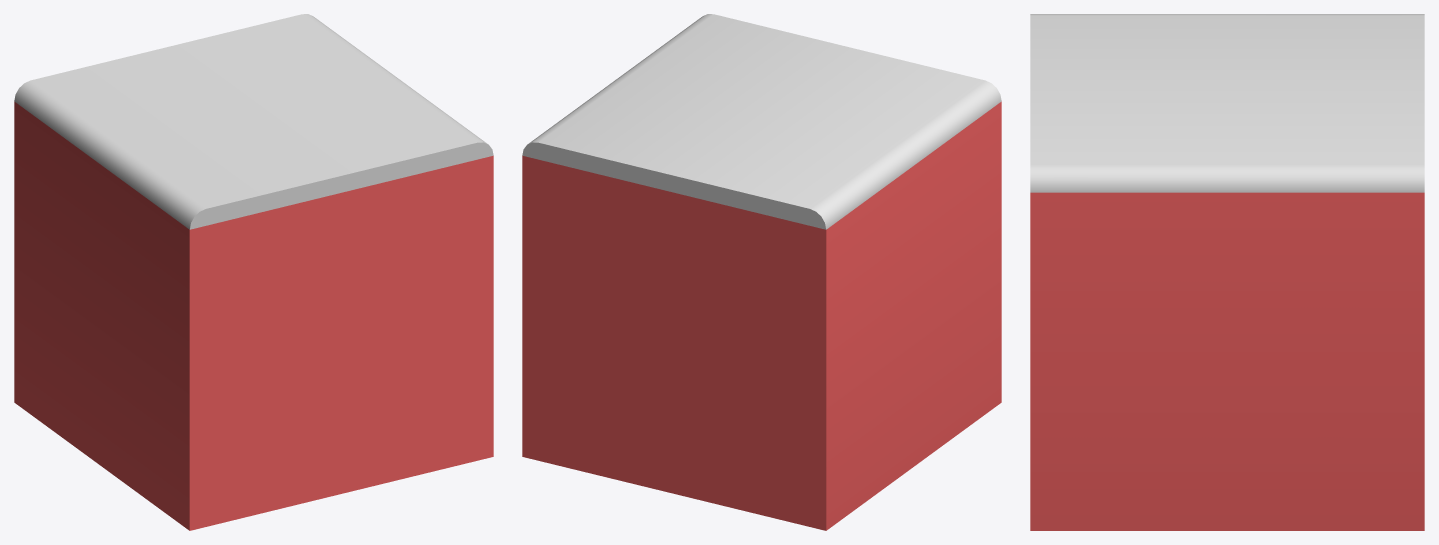
The model's file is CubeForTile_05.1.fbx.
3 views of the same model, side by side, from view 1: azimuth 30°, elevation 25°; view 2: azimuth 150°, elevation 25°; view 3: azimuth 270°, elevation 25° (orthographic). The views are drawn at different scales.
Parts seen in each view (by area): view 1: CubeForTile_05.1; view 2: CubeForTile_05.1; view 3: CubeForTile_05.1.
Boxes of the visible parts, bbox=[...] form: CubeForTile_05.1: bbox=[14, 14, 493, 530]; CubeForTile_05.1: bbox=[522, 14, 1001, 530]; CubeForTile_05.1: bbox=[1030, 14, 1424, 530].
Size of the model in its own units: 200 by 200 by 200.
